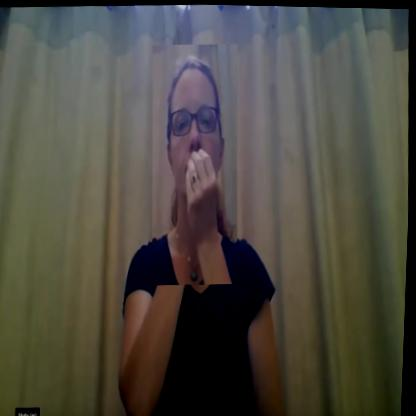Food: (146, 41, 246, 286)
